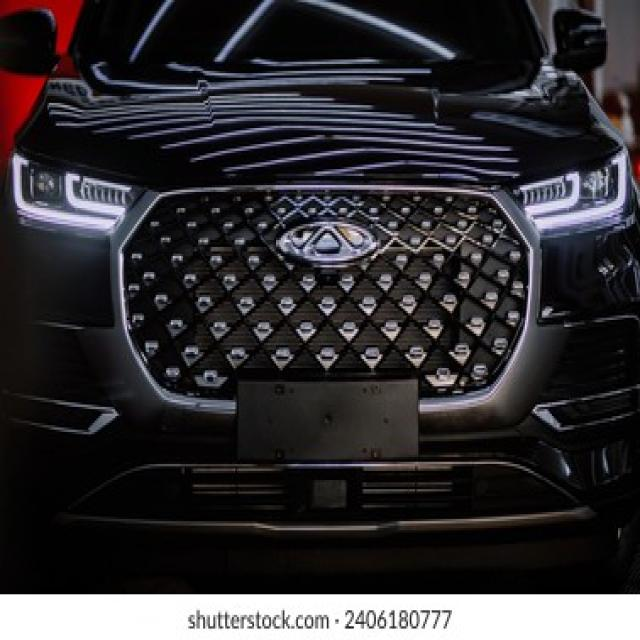mazda: (272, 220, 381, 263)
